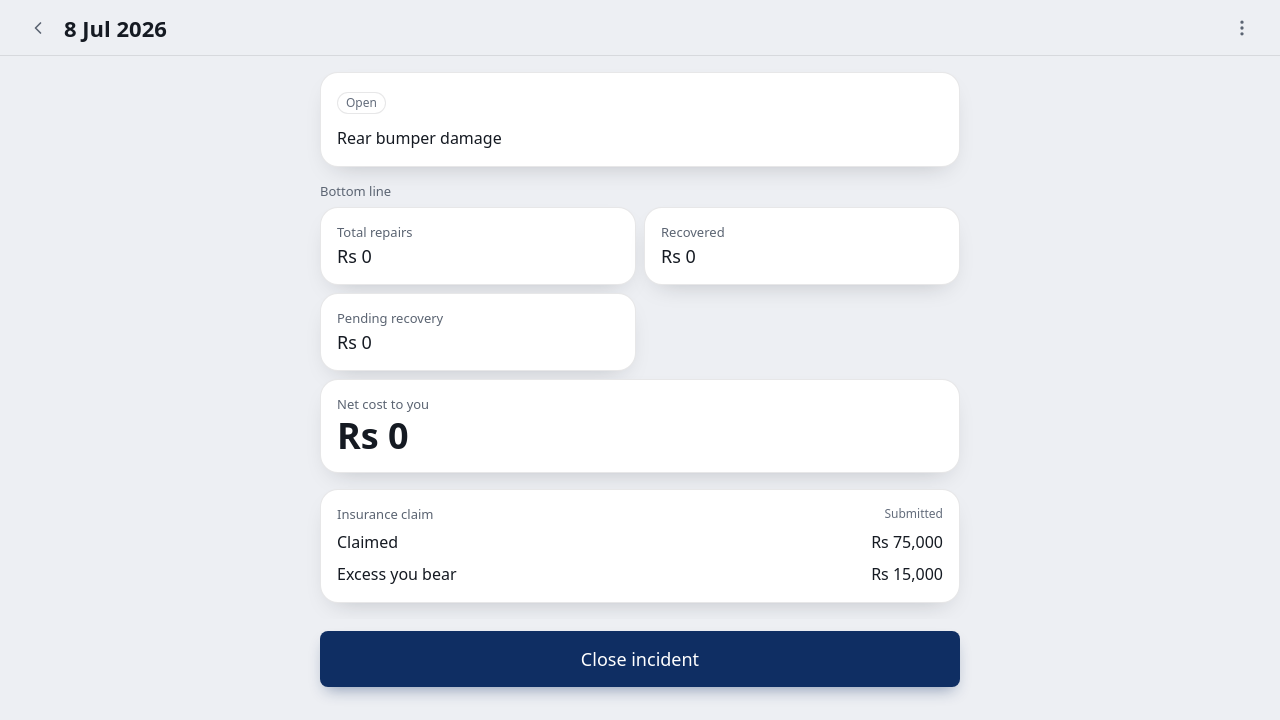
Test: a submitted insurance claim card is tappable, opening Settle insurance claim
This screenshot has width=1280, height=720.
Expected: the text "Insurance claim" is shown, [337, 506, 434, 522]
Expected: the text "Submitted" is shown, [884, 506, 943, 522]
Click the button "Claimed".
click(640, 546)  # box [320, 489, 960, 603]
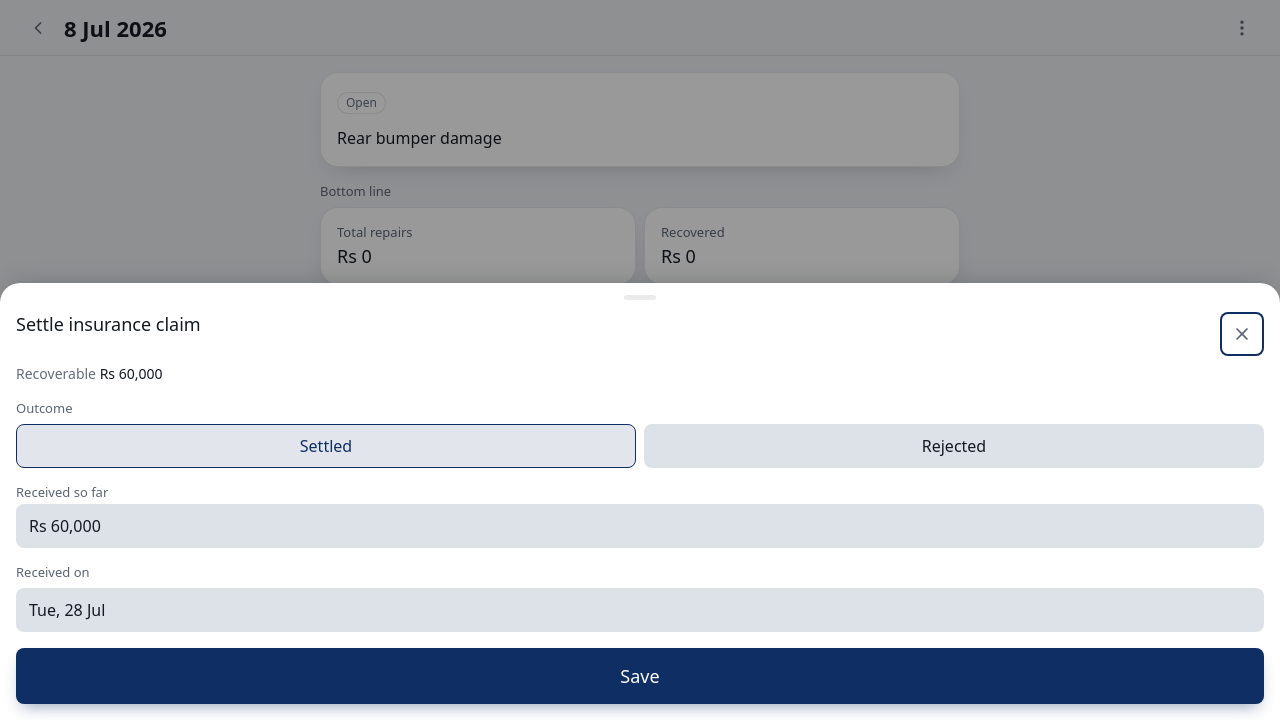
Expected: the heading "Settle insurance claim" is shown, [16, 312, 201, 336]
